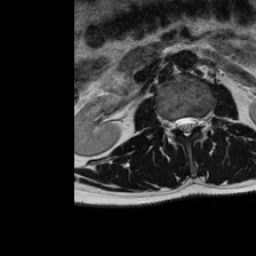CCS_normal: (182, 110, 190, 141)
LFS_normal: (197, 111, 203, 132)
LLS_normal: (190, 110, 197, 135)
RFS_normal: (169, 113, 176, 134)
RLS_normal: (175, 112, 182, 134)
